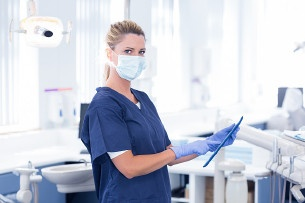Mask: (115, 44, 152, 80)
